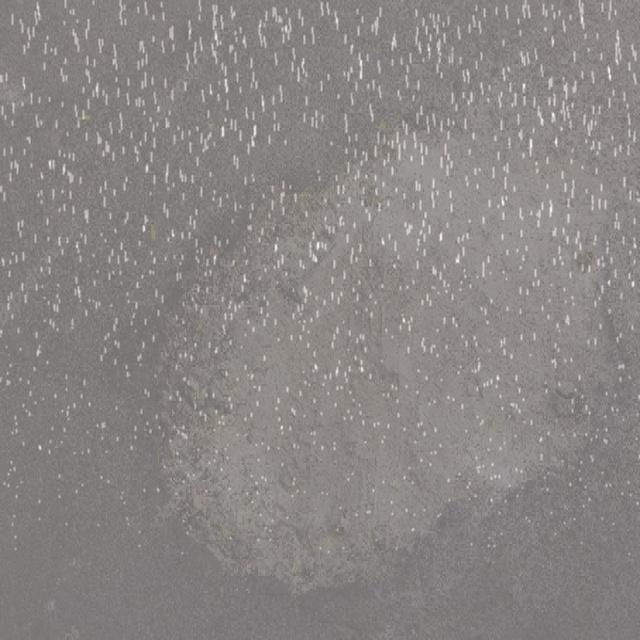Pothole: (116, 86, 640, 598)
